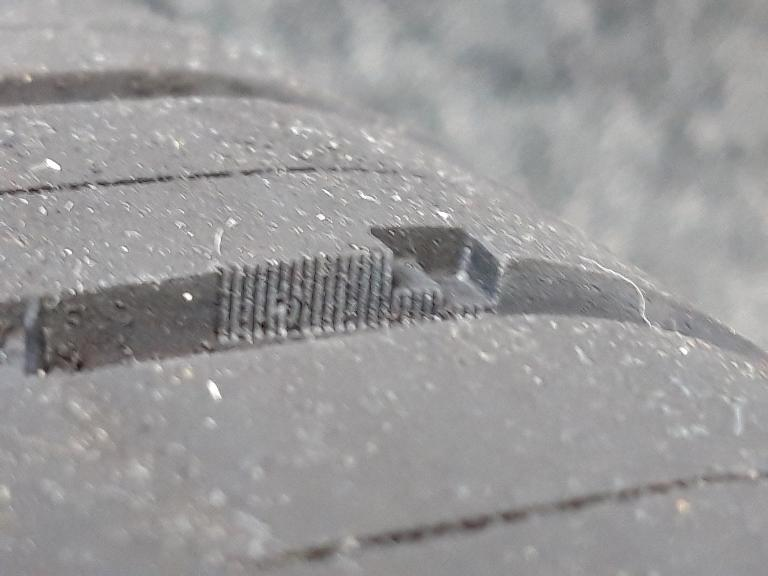temoin:50: (317, 218, 516, 341)
